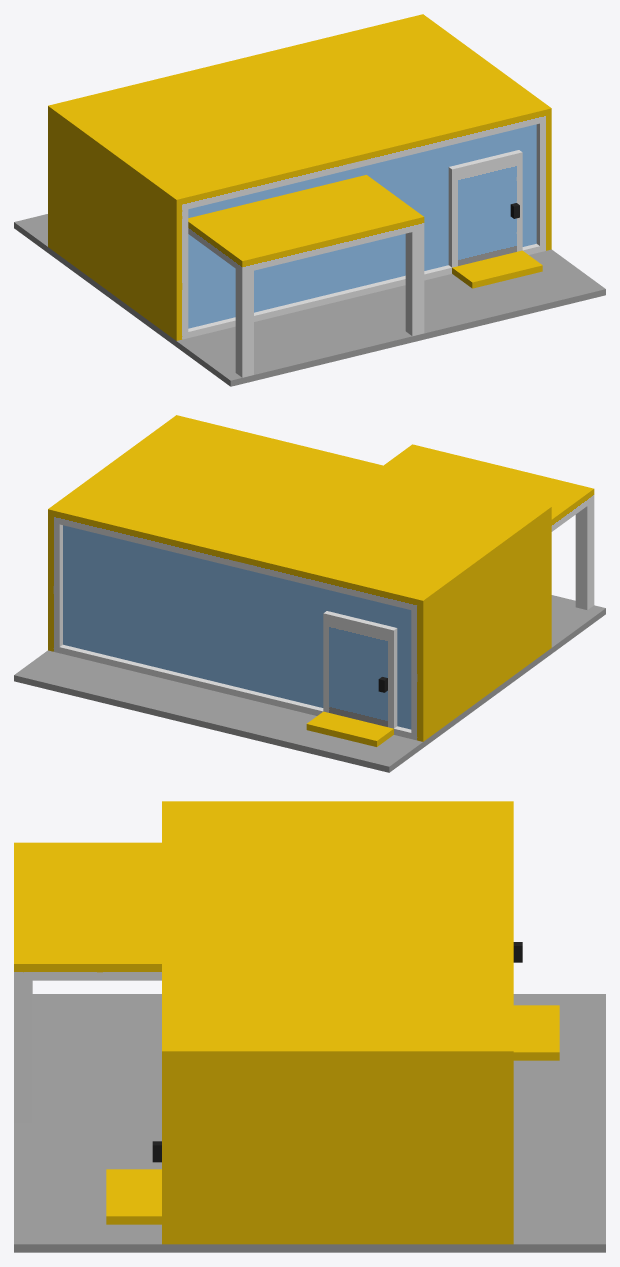
The model's file is obj_house2c.fbx.
The picture shows the model from 3 angles, top to bottom: view 1: azimuth 30°, elevation 25°; view 2: azimuth 150°, elevation 25°; view 3: azimuth 270°, elevation 25°; orthographic projection. The views are drawn at different scales.
Parts seen in each view (by area): view 1: obj_house2c; view 2: obj_house2c; view 3: obj_house2c.
Part boxes in pixels (<box>): obj_house2c: <box>14,14,605,386</box>; obj_house2c: <box>14,415,605,772</box>; obj_house2c: <box>14,801,605,1252</box>.
Bounding box in the file's own units: 6.4 × 6.4 × 2.4.
Materials: 1 (1 with a texture image).
